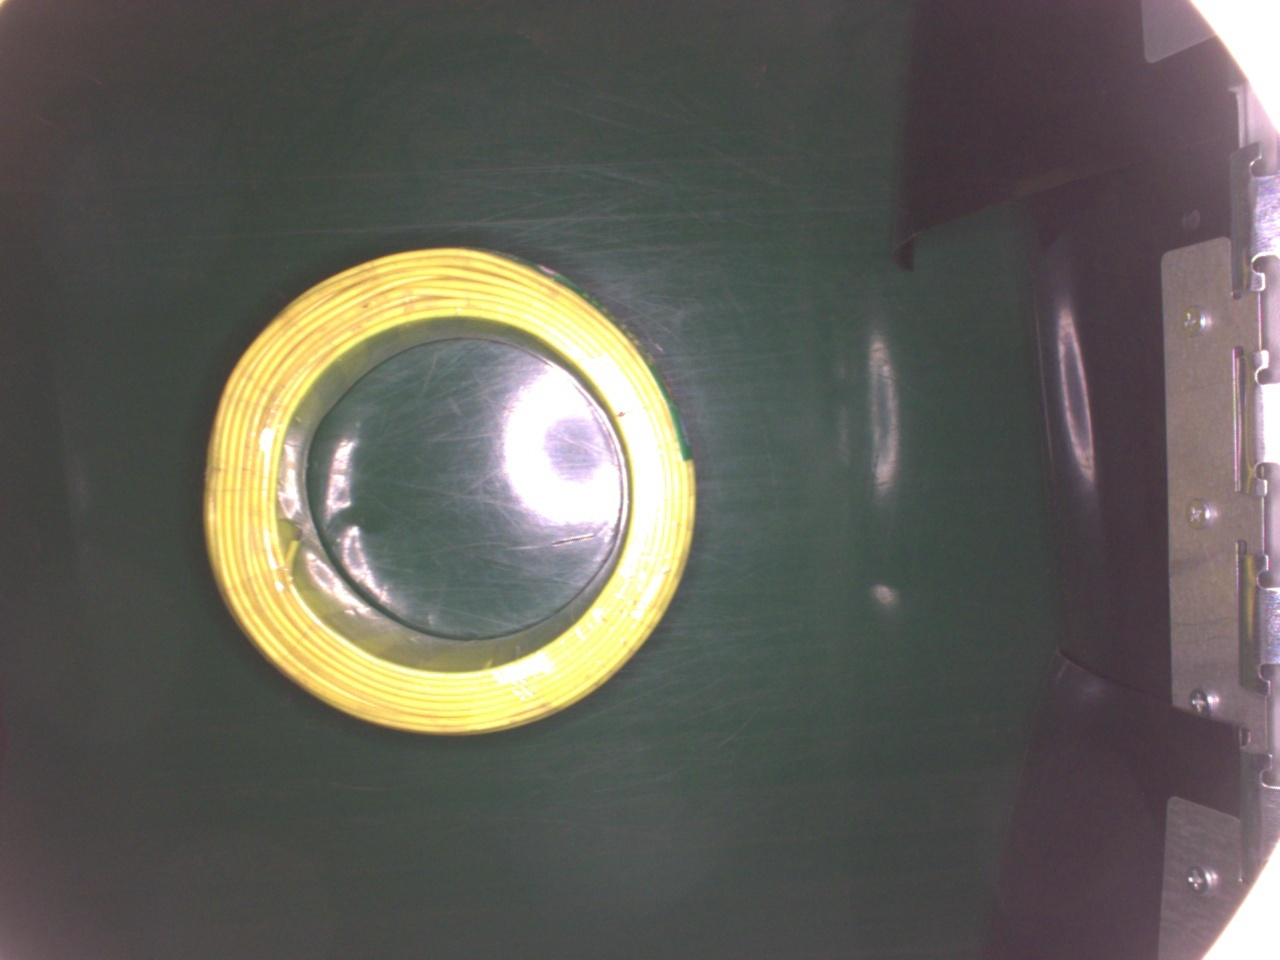yellow: (201, 239, 697, 733)
